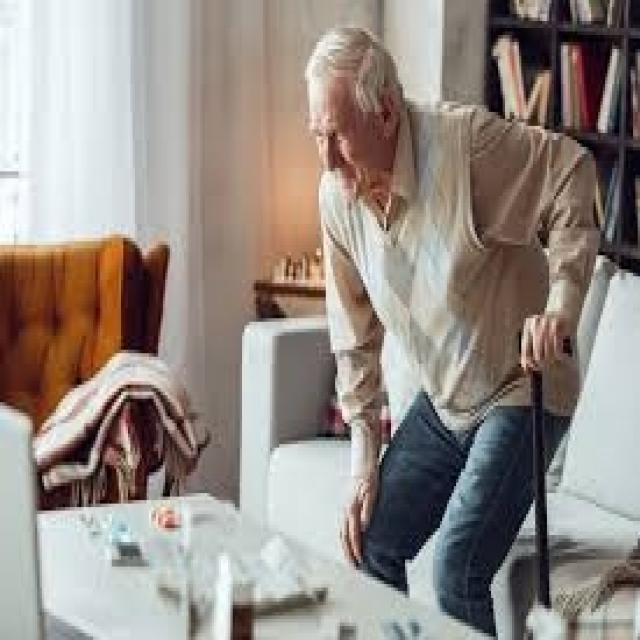sitting: (281, 17, 602, 639)
